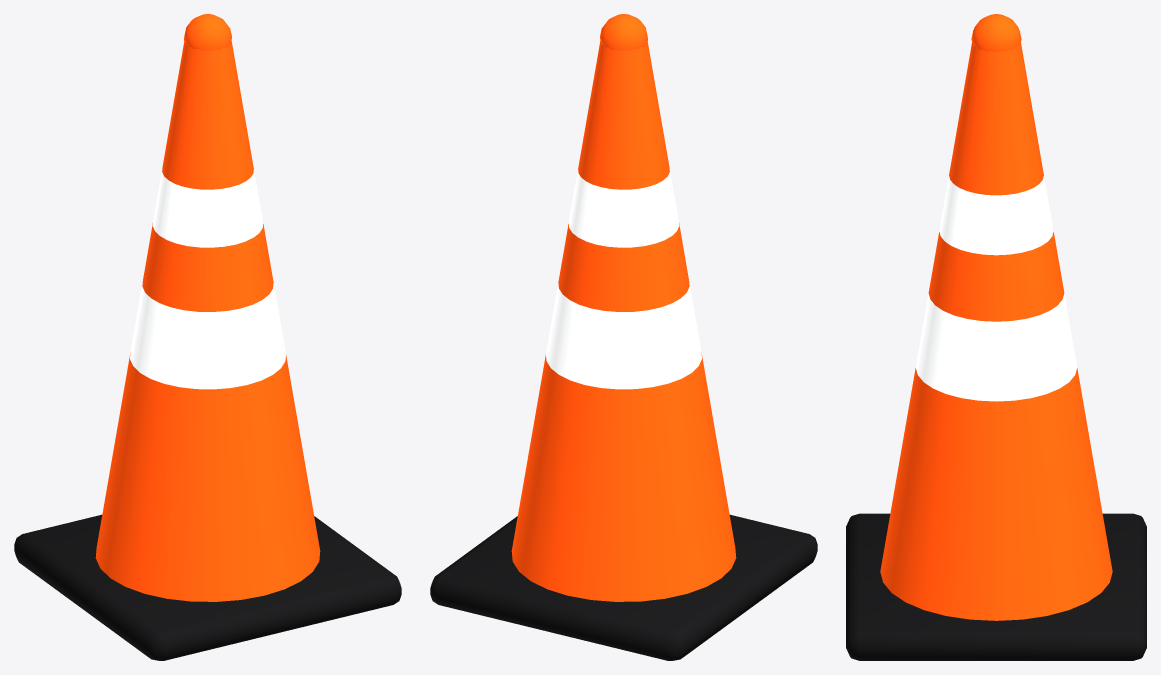
3 views of the same model, side by side, from view 1: azimuth 30°, elevation 25°; view 2: azimuth 150°, elevation 25°; view 3: azimuth 270°, elevation 25° (orthographic). The views are drawn at different scales.
Visible parts, largest first — view 1: cone_PropOrange, cone_PropRubber, cone_Reflective; view 2: cone_PropOrange, cone_PropRubber, cone_Reflective; view 3: cone_PropOrange, cone_PropRubber, cone_Reflective.
Boxes of the visible parts, x1,y1,x2,y2 form: cone_PropOrange: [95, 14, 320, 601]; cone_PropRubber: [14, 514, 401, 660]; cone_Reflective: [130, 169, 285, 389]; cone_PropOrange: [511, 14, 736, 601]; cone_PropRubber: [430, 514, 817, 660]; cone_Reflective: [546, 169, 701, 389]; cone_PropOrange: [880, 14, 1112, 620]; cone_PropRubber: [846, 513, 1146, 660]; cone_Reflective: [915, 176, 1077, 401].
Bounding box in the file's own units: 0.44 × 0.9468 × 0.44.
